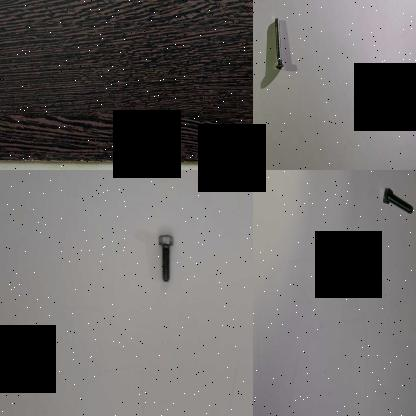Bolts: (153, 228, 178, 286), (377, 182, 415, 216), (269, 11, 286, 75)
